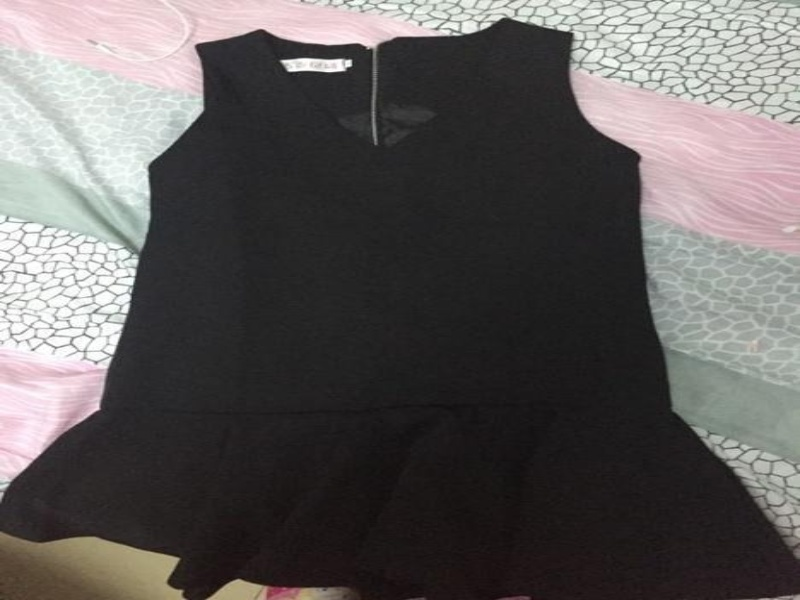vest_dress: (2, 16, 797, 599)
